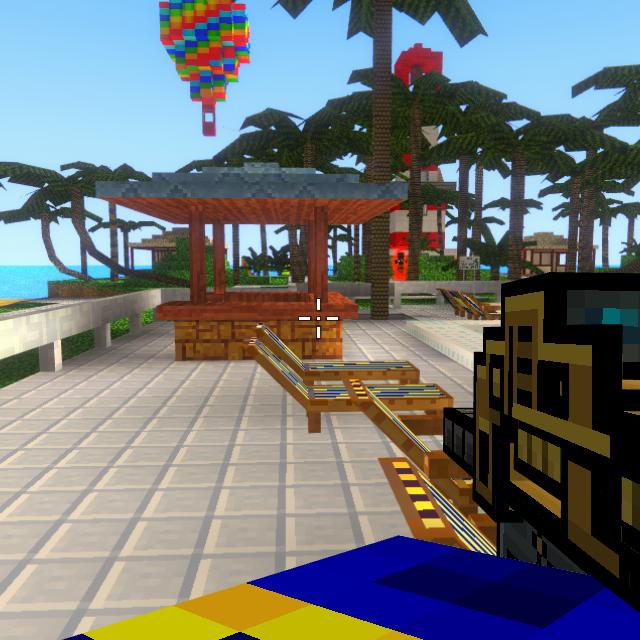Enemy: (393, 250, 406, 274)
